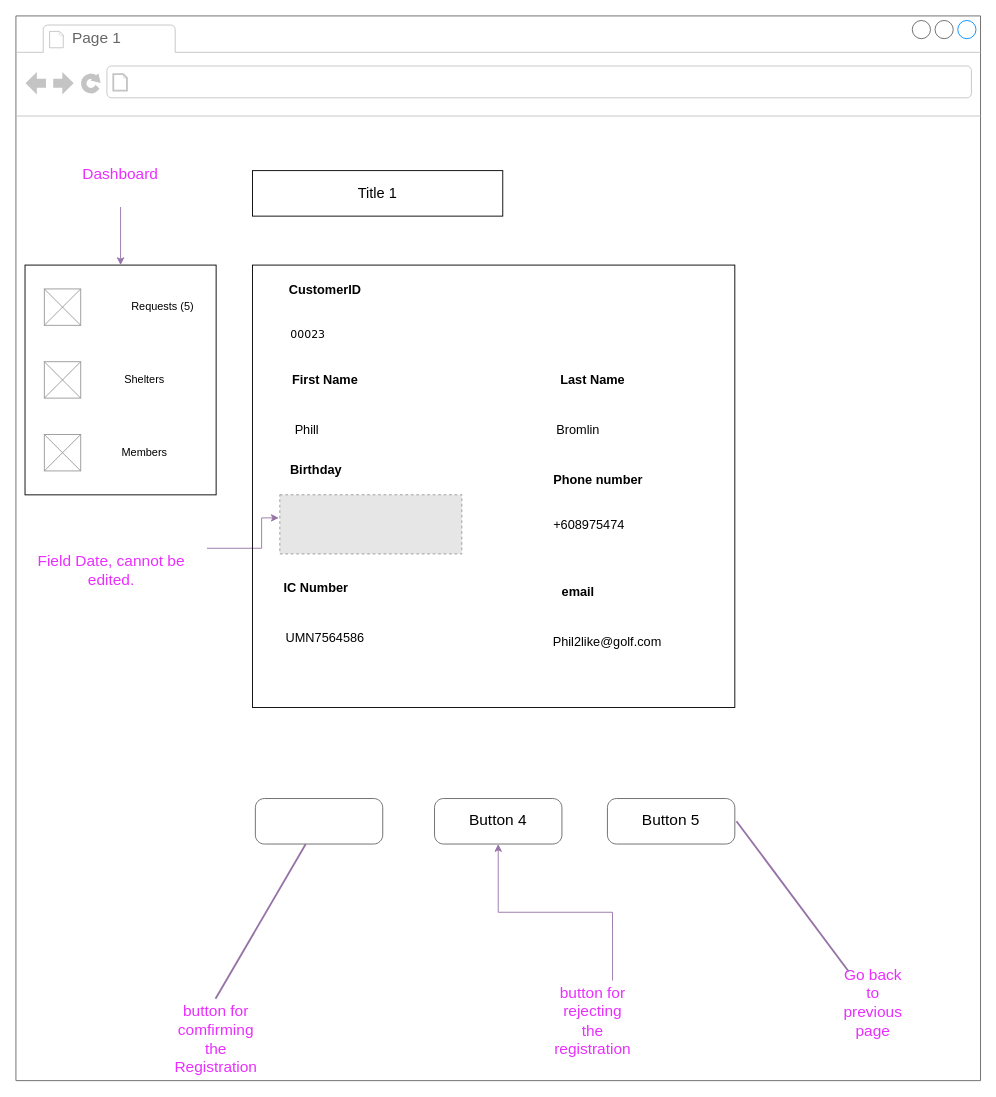
Some shapes in this 996 by 1097 pixel diagram are drawn without their labels. Grey dashed boxes stand in for pictures. Each missing label, with the box of its shape:
Button 3: (254, 798, 383, 844)
https://www.default.com: (133, 70, 362, 94)
